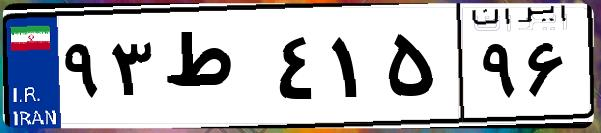1: (330, 28, 385, 110)
3: (110, 28, 158, 98)
4: (270, 28, 330, 110)
5: (385, 28, 445, 110)
6: (525, 38, 570, 115)
9: (57, 26, 110, 100), (475, 38, 525, 113)
ط: (158, 20, 270, 120)
